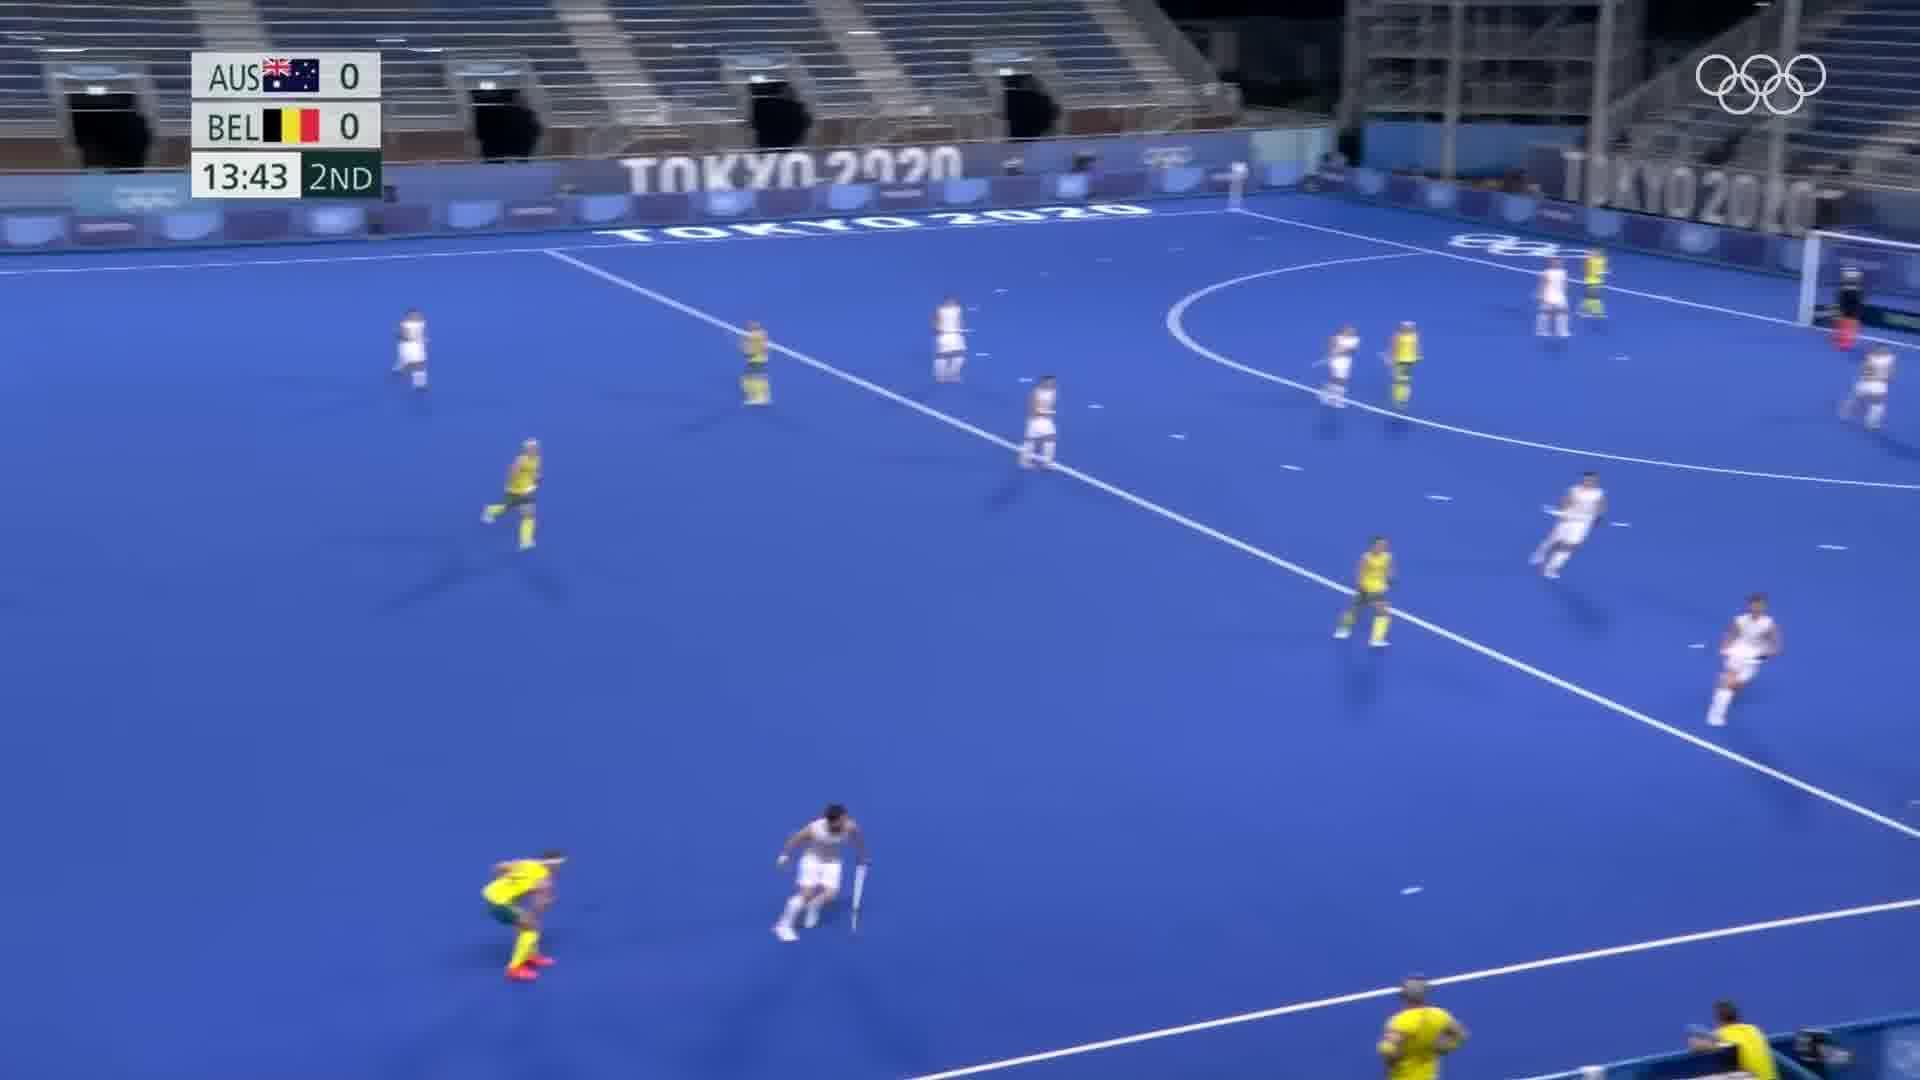ball: (1379, 880, 1445, 913)
